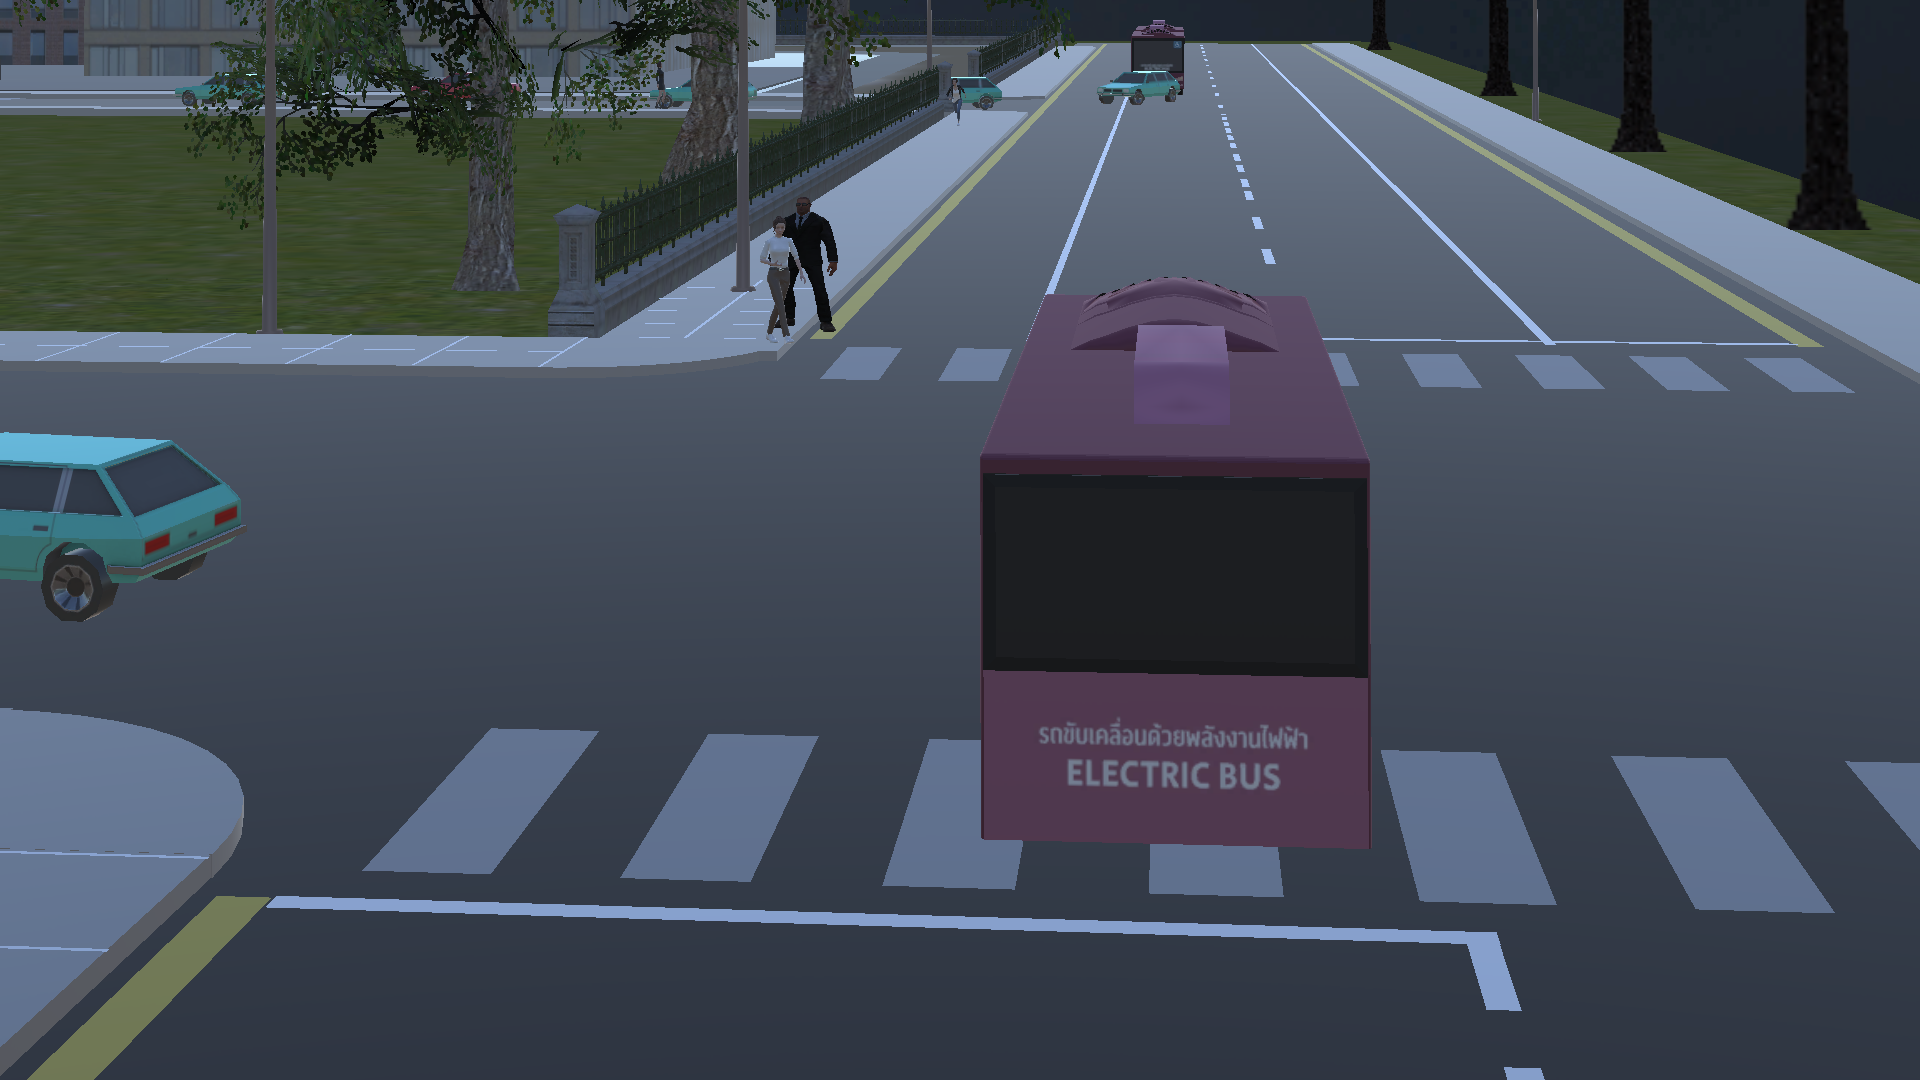pedestrian: (791, 188, 869, 348), (759, 210, 805, 350), (939, 73, 973, 135)
